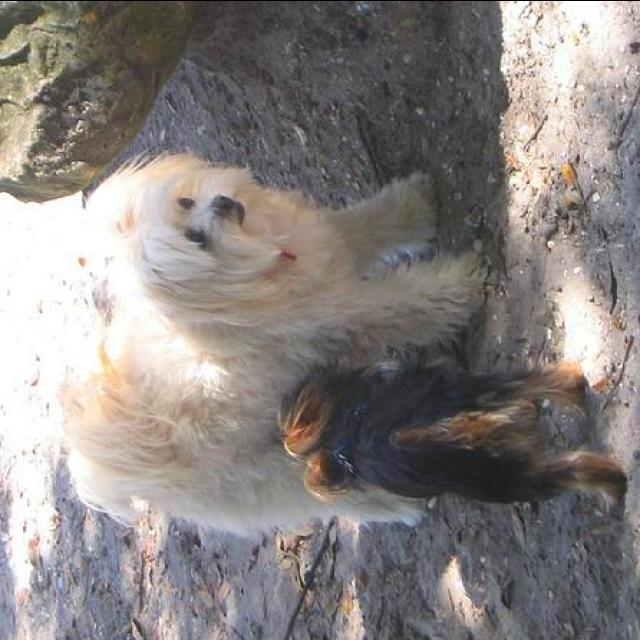maltese_dog: (54, 156, 484, 540)
